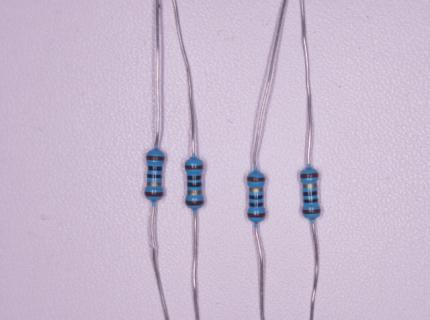Black band: (147, 173, 163, 179), (302, 191, 318, 197), (187, 175, 202, 181), (187, 182, 202, 188), (303, 198, 318, 204), (147, 166, 163, 171), (249, 195, 264, 200), (249, 203, 264, 208)
Brown band: (146, 155, 165, 161), (300, 173, 319, 179), (302, 209, 321, 215), (247, 212, 266, 218), (144, 192, 164, 197), (185, 165, 204, 170), (185, 201, 204, 206), (247, 177, 265, 182)
Gold band: (302, 183, 317, 189), (147, 182, 162, 187), (187, 190, 202, 195), (249, 188, 263, 192)
